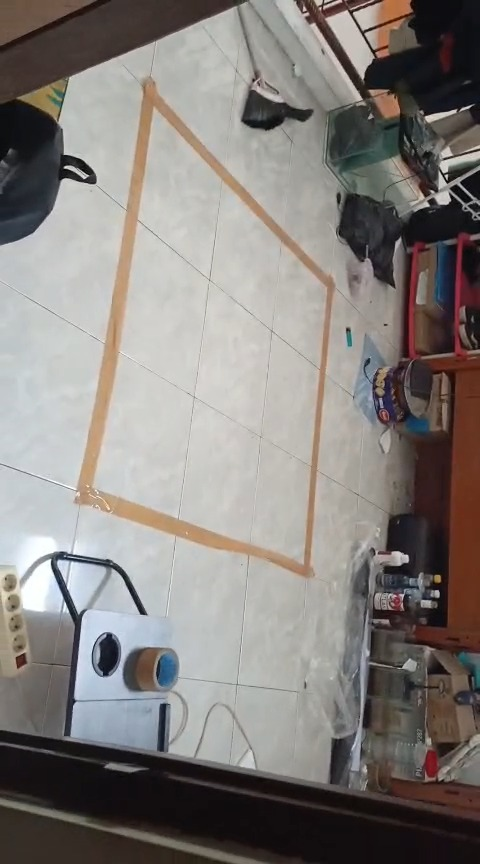floor marking: (75, 77, 333, 576)
